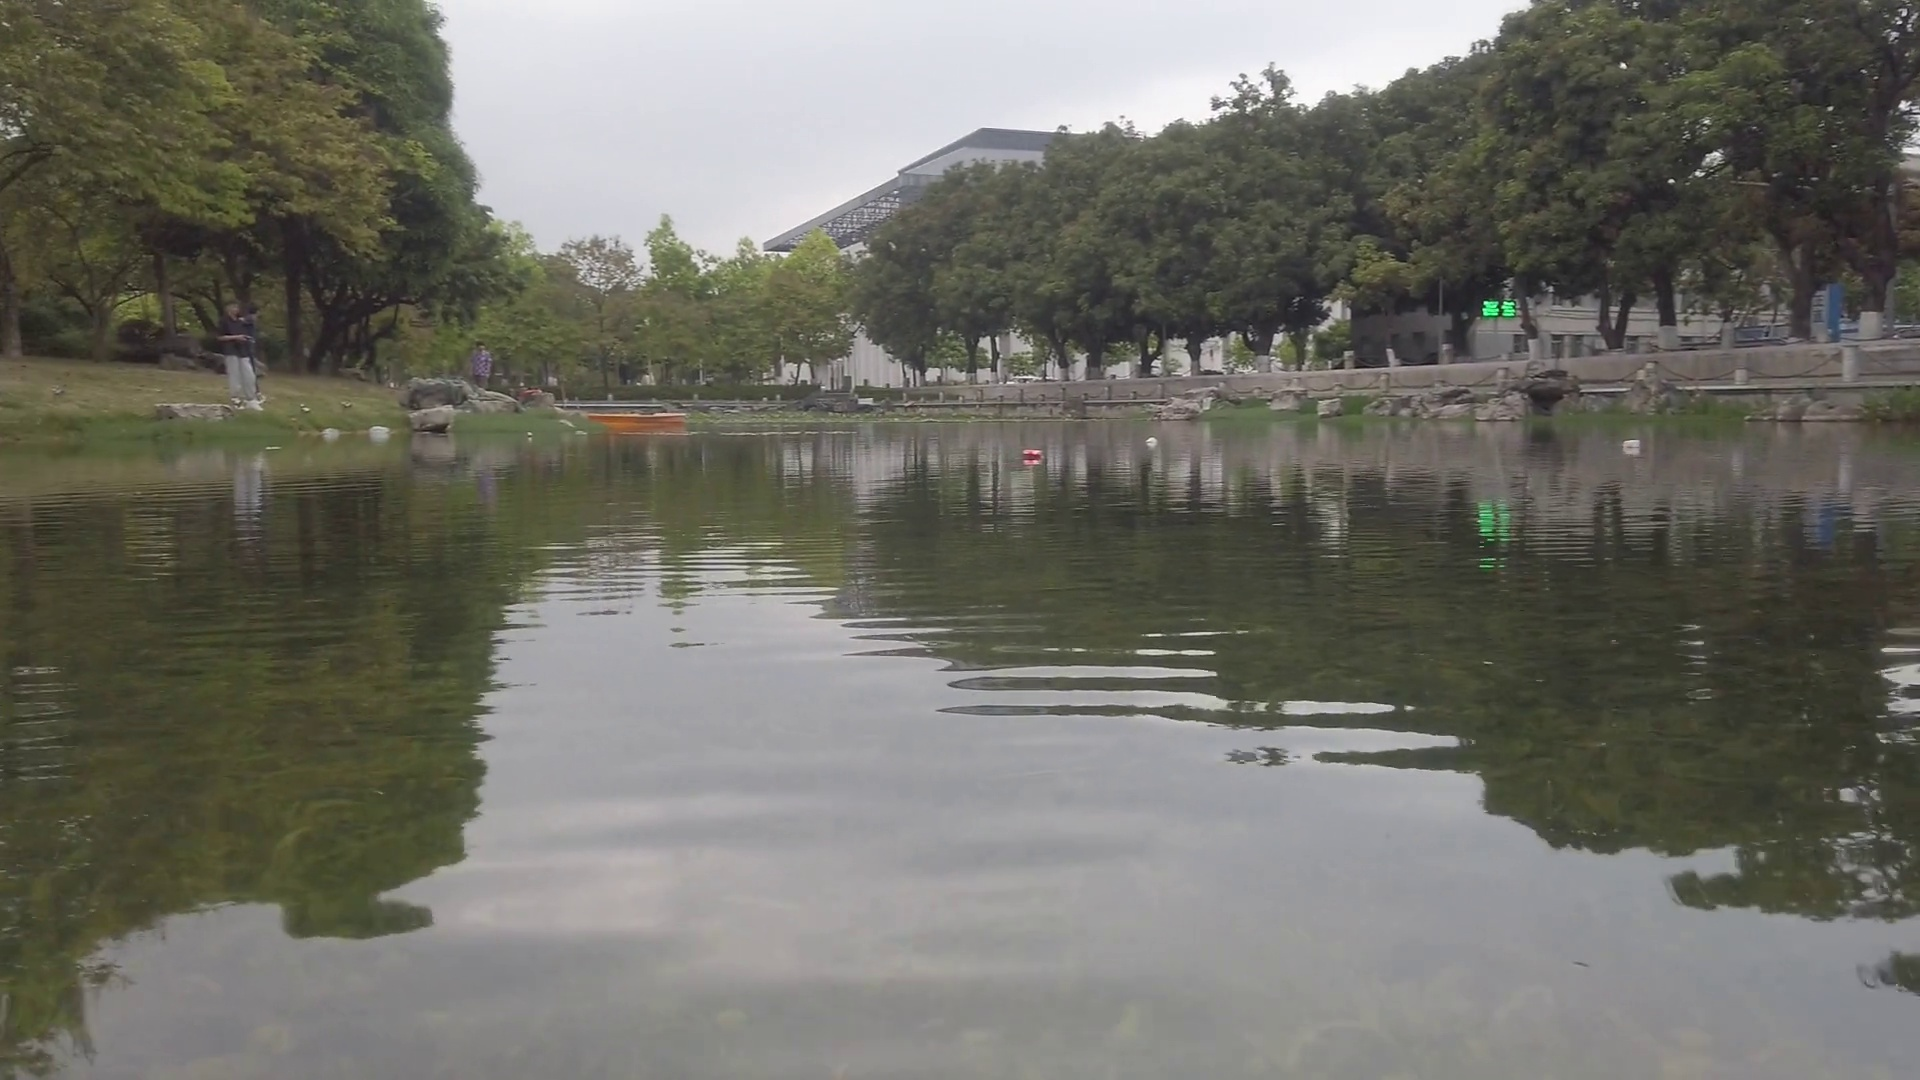bottle: (1023, 448, 1044, 460)
carton: (1621, 438, 1642, 450)
plastic: (1147, 435, 1159, 447)
